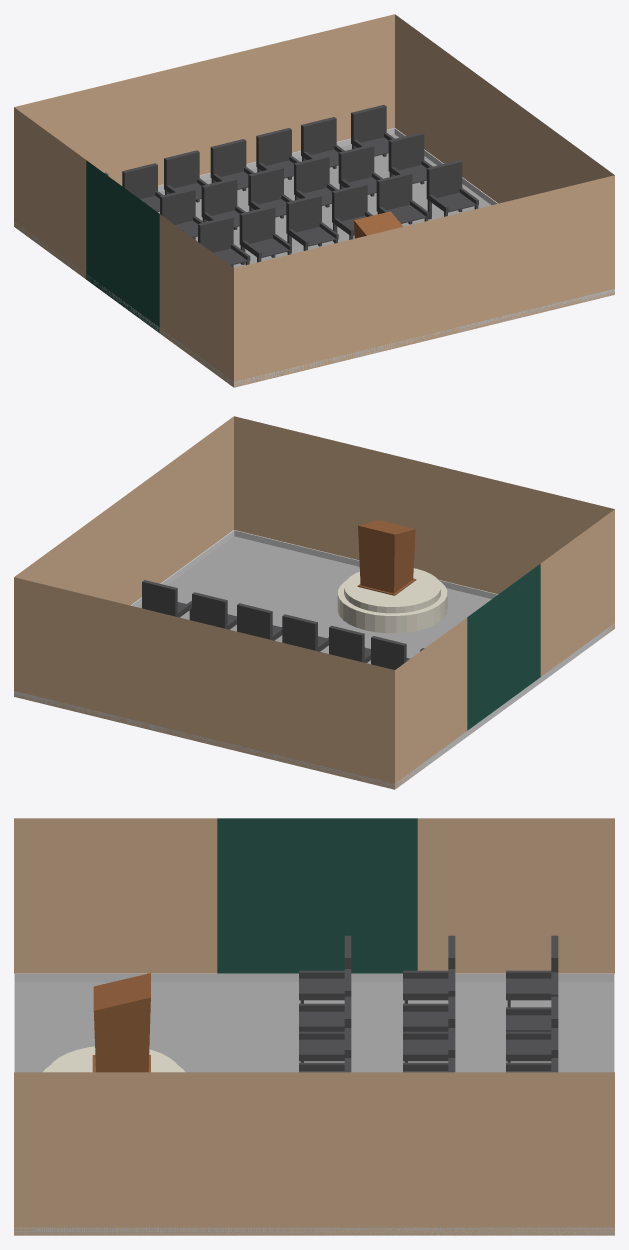
File: PubSpeak Model.fbx
The picture shows the model from 3 angles, top to bottom: view 1: azimuth 30°, elevation 25°; view 2: azimuth 150°, elevation 25°; view 3: azimuth 270°, elevation 25°; orthographic projection. The views are drawn at different scales.
Visible parts, largest first — view 1: Room, Floor, Baseboard, Cube.019, Cube.015, Cube.016, Cube.018, Cube.012, Cube.005, Cube.002, Cube.011, Cube.009 (+10 smaller); view 2: Room, Floor, Baseboard, Cylinder, Cube.021, Cube.019, Cube.016, Cube.017, Cube.018, Cube.015, Cube.014; view 3: Room, Floor, Baseboard, Cube.021, Cube.006, Cube.020, Cube.013, Cube.015, Cube.001, Cube.008, Cube.014, Cube.007 (+5 smaller).
Part boxes in pixels (x1,y1,x2,y2): Room: [14, 14, 614, 387]; Floor: [158, 134, 491, 267]; Baseboard: [14, 128, 614, 387]; Cube.019: [426, 160, 478, 219]; Cube.015: [239, 205, 291, 264]; Cube.016: [286, 194, 338, 252]; Cube.018: [376, 172, 428, 224]; Cube.012: [388, 132, 432, 184]; Cube.005: [351, 105, 394, 156]; Cube.002: [210, 139, 254, 190]; Cube.011: [338, 144, 382, 196]; Cube.009: [248, 166, 292, 218]; Room: [14, 416, 614, 789]; Floor: [137, 536, 491, 664]; Baseboard: [14, 530, 614, 789]; Cylinder: [337, 568, 447, 633]; Cube.021: [357, 520, 416, 595]; Cube.019: [142, 580, 191, 620]; Cube.016: [282, 614, 328, 651]; Cube.017: [237, 603, 282, 640]; Cube.018: [192, 592, 236, 629]; Cube.015: [329, 625, 370, 662]; Cube.014: [371, 636, 410, 669]; Room: [14, 818, 614, 1235]; Floor: [15, 982, 613, 1072]; Baseboard: [14, 973, 614, 1235]; Cube.021: [92, 973, 150, 1072]; Cube.006: [506, 935, 558, 1007]; Cube.020: [299, 935, 351, 1003]; Cube.013: [403, 935, 455, 1003]; Cube.015: [299, 996, 351, 1062]; Cube.001: [506, 996, 558, 1062]; Cube.008: [403, 996, 455, 1062]; Cube.014: [299, 969, 351, 1031]; Cube.007: [403, 969, 455, 1031].
Bounding box in the file's own units: 800 × 241 × 800.
